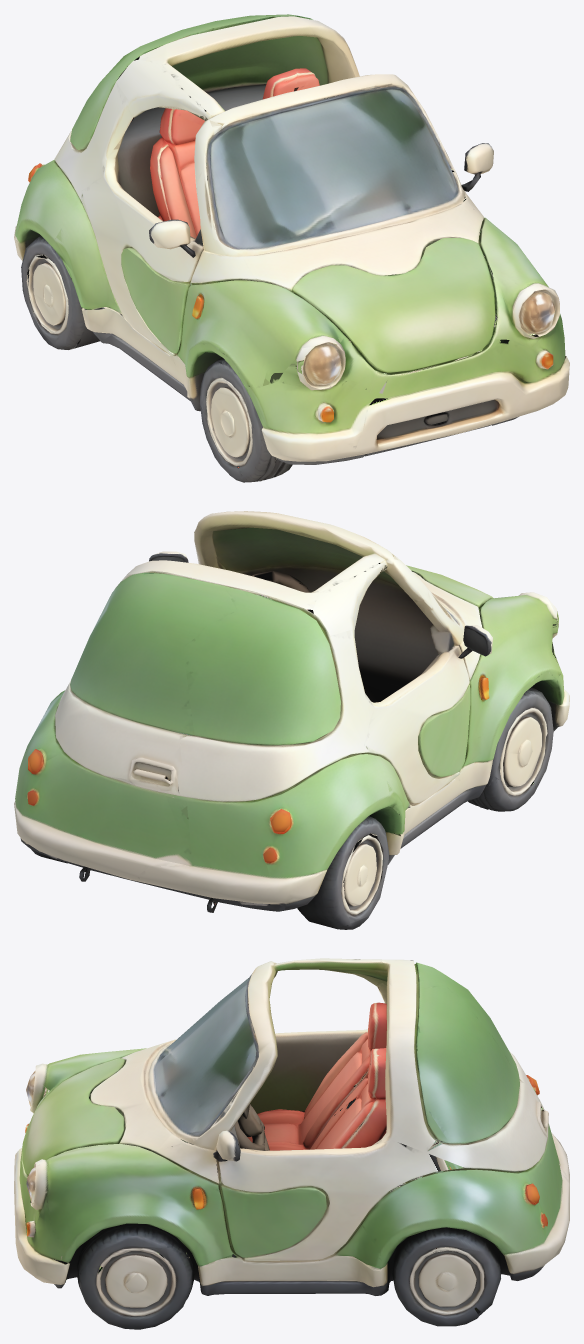
File: sprout-mobile.glb
3 views of the same model, one above another, from view 1: azimuth 30°, elevation 25°; view 2: azimuth 150°, elevation 25°; view 3: azimuth 270°, elevation 25° (orthographic). The views are drawn at different scales.
Parts seen in each view (by area): view 1: model; view 2: model; view 3: model.
Part boxes in pixels (left/top/right/bottom): model: left=14, top=14, right=569, bottom=482; model: left=14, top=511, right=569, bottom=929; model: left=14, top=958, right=569, bottom=1329.
Size of the model in its own units: 1.23 by 1.05 by 1.89.
Materials: 1 (1 with a texture image).
